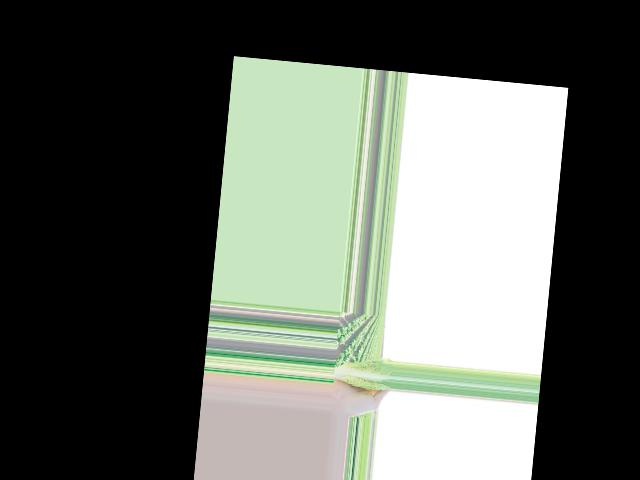lettuce: (331, 354, 391, 391)
